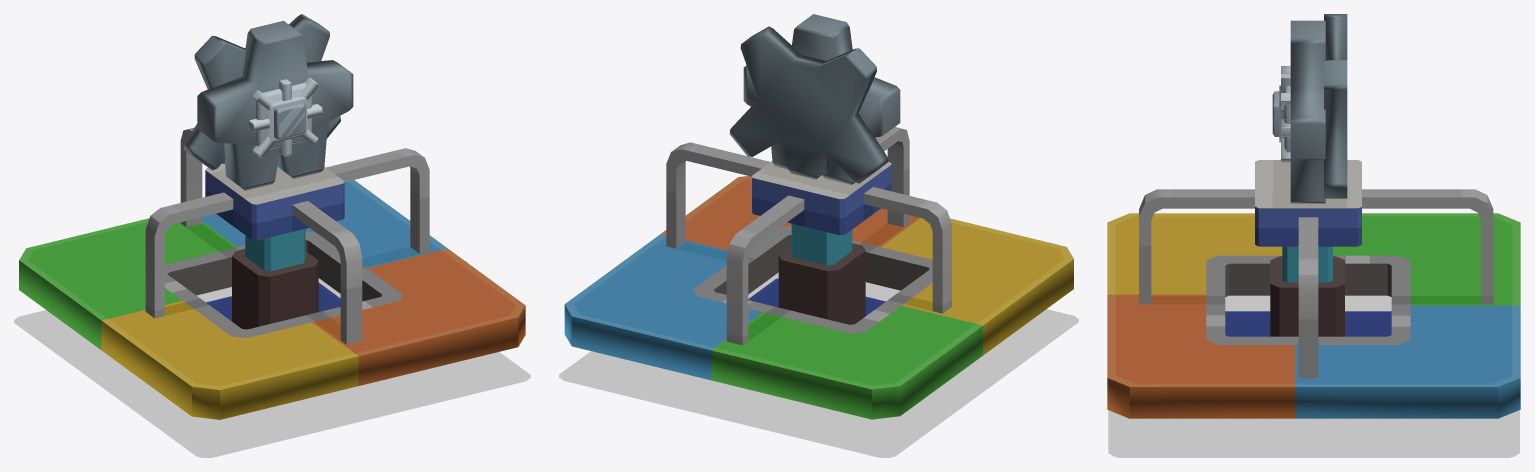
File: G_makeover_M121_rotation.fbx
The picture shows the model from 3 angles, left to right: view 1: azimuth 30°, elevation 25°; view 2: azimuth 150°, elevation 25°; view 3: azimuth 270°, elevation 25°; orthographic projection. The views are drawn at different scales.
Parts seen in each view (by area): view 1: model1, ground, model2; view 2: model1, ground, model2; view 3: model1, ground, model2.
Boxes of the visible parts, x1,y1,x2,y2 form: model1: (19, 14, 525, 419); ground: (14, 278, 530, 457); model2: (206, 229, 340, 329); model1: (564, 14, 1073, 419); ground: (559, 272, 1078, 457); model2: (748, 223, 885, 324); model1: (1107, 14, 1520, 418); ground: (1108, 295, 1519, 457); model2: (1225, 246, 1391, 336).
Size of the model in its own units: 10.39 by 9.52 by 10.44.
